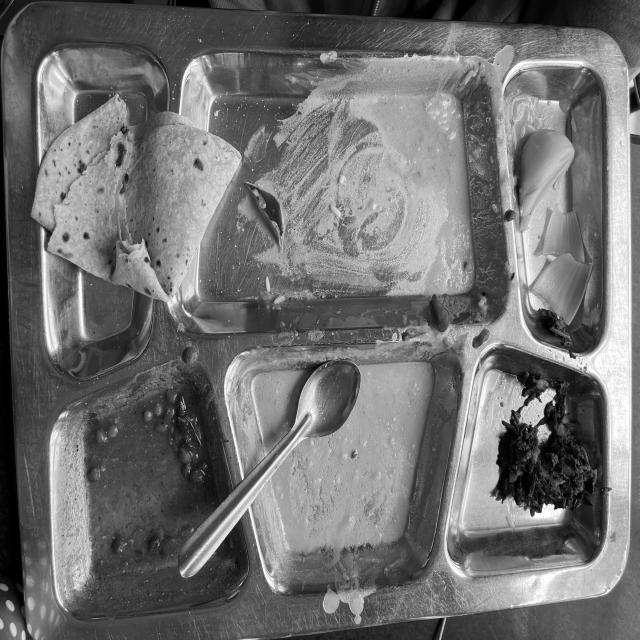50.4- Food Left: (23, 30, 612, 603)
